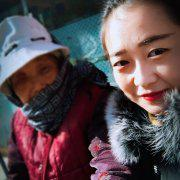NONE: (109, 34, 180, 108)
WRONG: (9, 59, 68, 118)
